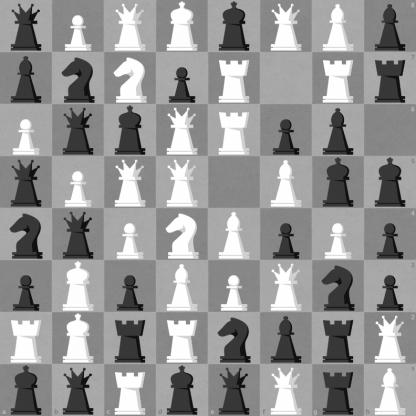B: (364, 364, 416, 416), (157, 261, 208, 312), (209, 209, 260, 260), (261, 157, 312, 208), (313, 1, 364, 52)
K: (53, 261, 104, 312), (53, 313, 104, 364), (157, 1, 208, 52)
N: (105, 53, 156, 104), (157, 209, 208, 260)
P: (1, 105, 52, 156), (53, 1, 104, 52), (53, 157, 104, 208), (105, 209, 156, 260), (209, 261, 260, 312), (313, 209, 364, 260)
Q: (260, 364, 312, 416), (364, 312, 416, 364), (105, 1, 156, 52), (105, 157, 156, 208), (157, 105, 208, 156), (157, 157, 208, 208), (261, 1, 312, 52), (261, 261, 312, 312)
R: (104, 364, 156, 416), (1, 313, 52, 364), (157, 313, 208, 364), (209, 53, 260, 104), (209, 105, 260, 156), (313, 53, 364, 104)
b: (364, 0, 416, 52), (1, 53, 52, 104), (261, 313, 312, 364), (313, 105, 364, 156)
board: (0, 0, 415, 415)
k: (156, 364, 209, 416), (364, 156, 416, 209), (0, 364, 52, 416), (105, 105, 156, 156), (209, 1, 260, 52), (313, 157, 364, 208)
n: (1, 209, 52, 260), (53, 53, 104, 104), (209, 313, 260, 364), (313, 261, 364, 312)
p: (364, 260, 416, 312), (364, 209, 416, 260), (1, 261, 52, 312), (105, 261, 156, 312), (157, 53, 208, 104), (261, 105, 312, 156), (261, 209, 312, 260)
q: (52, 364, 104, 416), (209, 364, 260, 416), (1, 1, 52, 52), (1, 157, 52, 208), (53, 105, 104, 156), (53, 209, 104, 260)
r: (312, 364, 364, 416), (364, 52, 416, 104), (105, 313, 156, 364), (313, 313, 364, 364)
